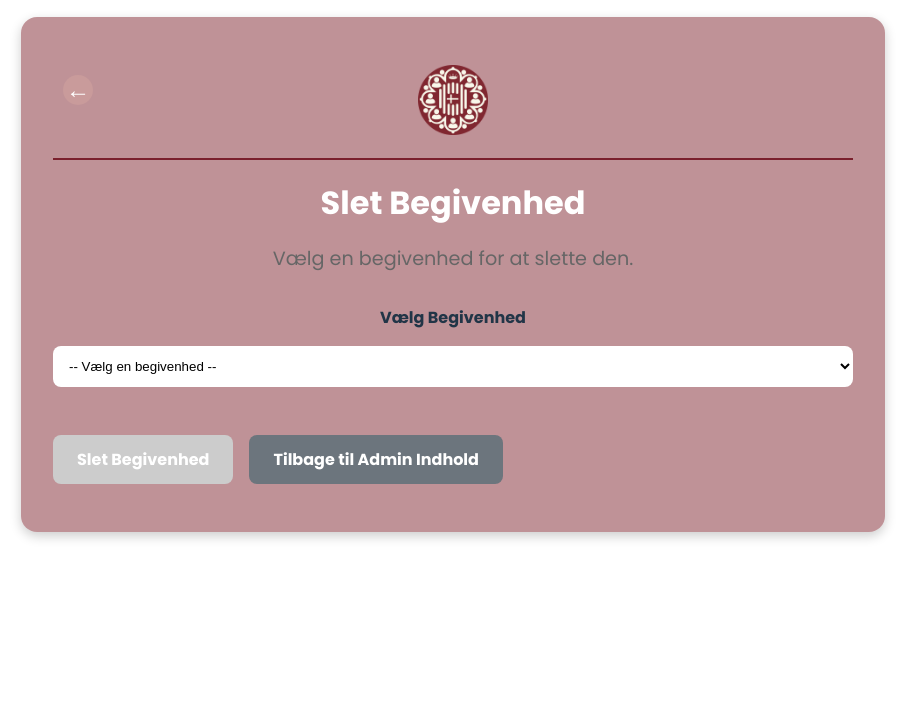
DeleteEvent Component › displays event details when an event is selected
Select "Event 1 (ID: 1)" in the dropdown labelled "Vælg Begivenhed" at (453, 367), box left=53, top=346, right=853, bottom=387
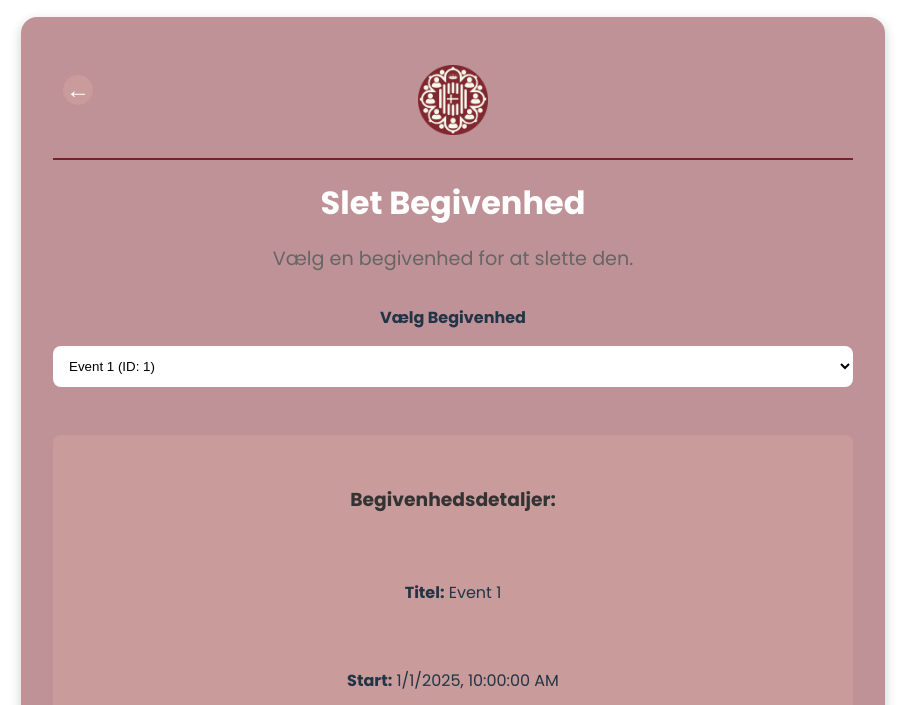
Result: the heading "Begivenhedsdetaljer:" is shown at left=350, top=486, right=556, bottom=513
